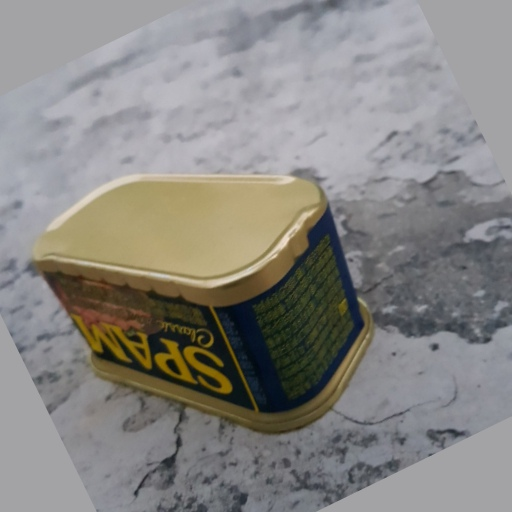Metal_2: (30, 170, 379, 437)
